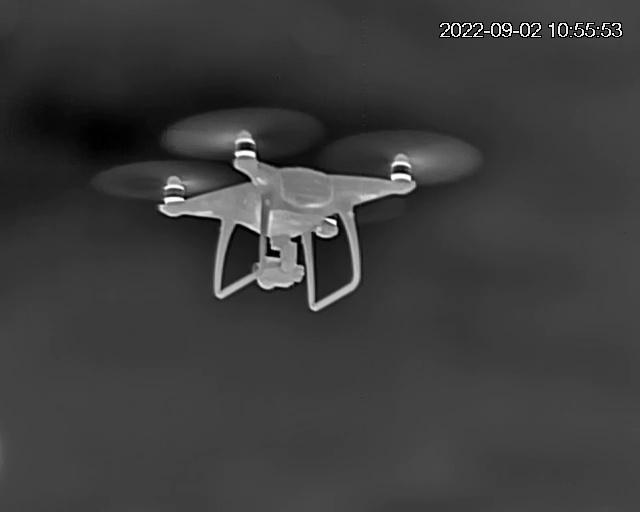DJI-Phantom: (92, 107, 482, 311)
